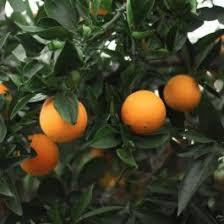orange: (45, 89, 84, 140), (23, 127, 66, 172), (119, 89, 163, 132), (173, 64, 201, 107)
